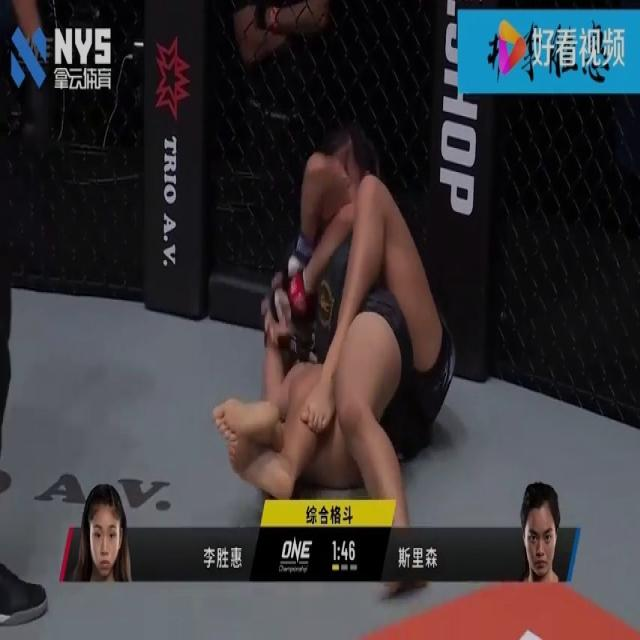fight: (208, 117, 472, 539)
